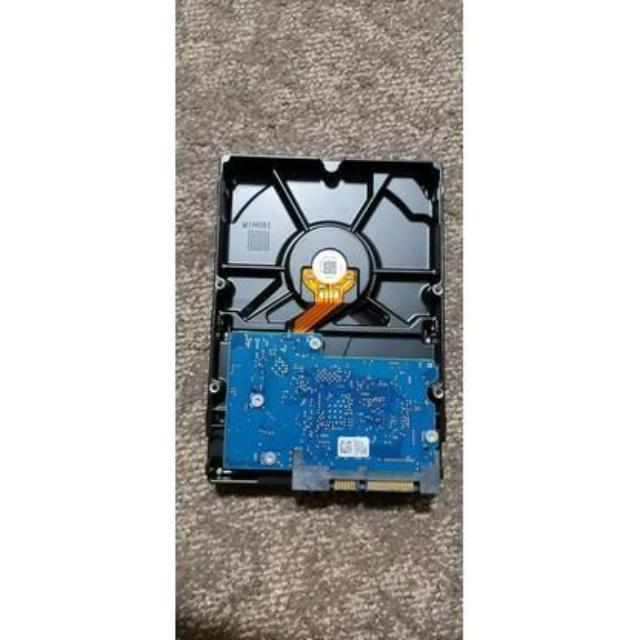DISK: (211, 152, 451, 508)
